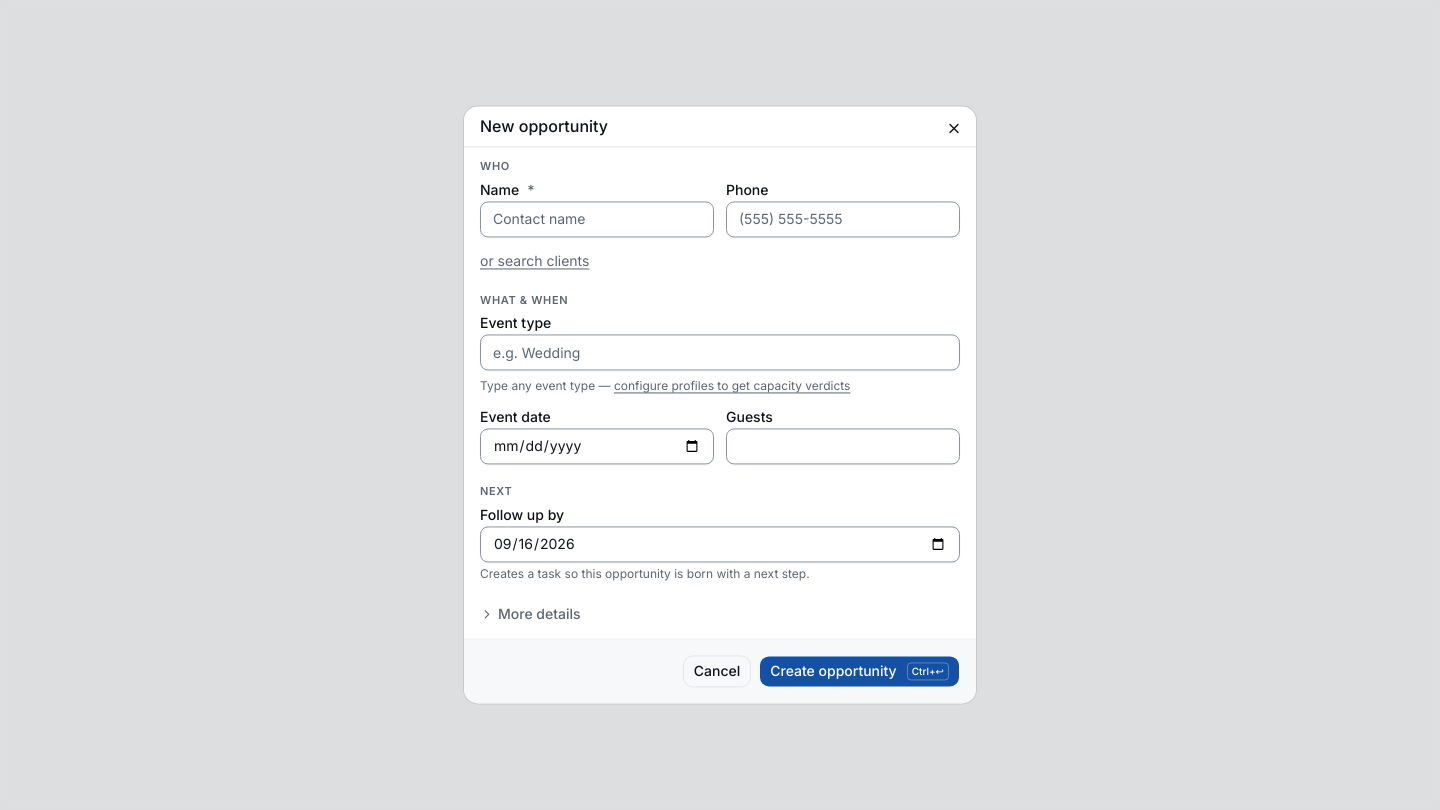
Test: NewOpportunityForm linked mode › shows a single identity display when picking a customer via the typeahead
The width and height of the screenshot is (1440, 810).
The picker is the explicit fallback, collapsed to one line until asked for.
Click the button "or search clients" at (535, 261), box 480,249 -> 590,273
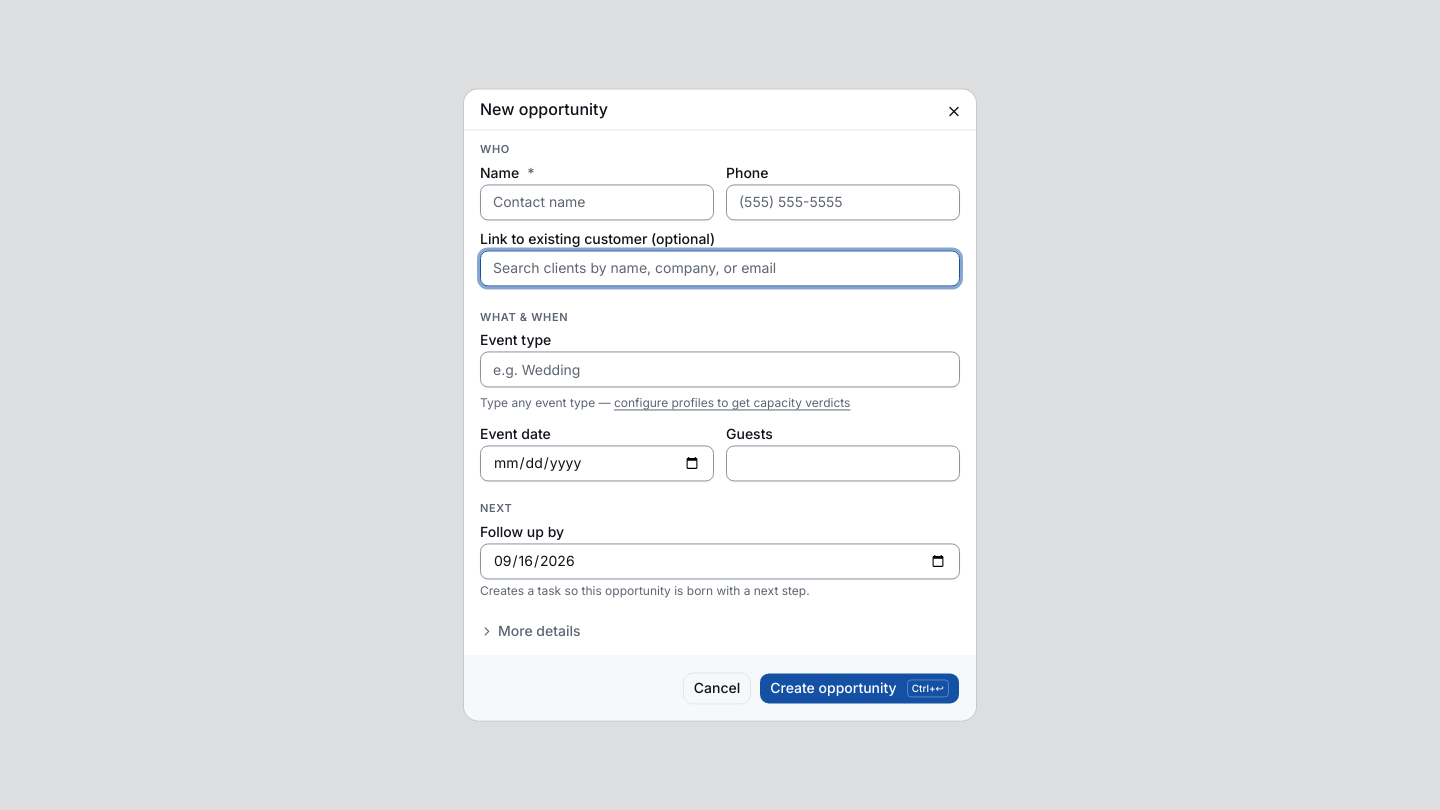
Type "dana" into the dropdown labelled "Link to existing customer (optional)" at (720, 268), box 480,250 -> 960,286
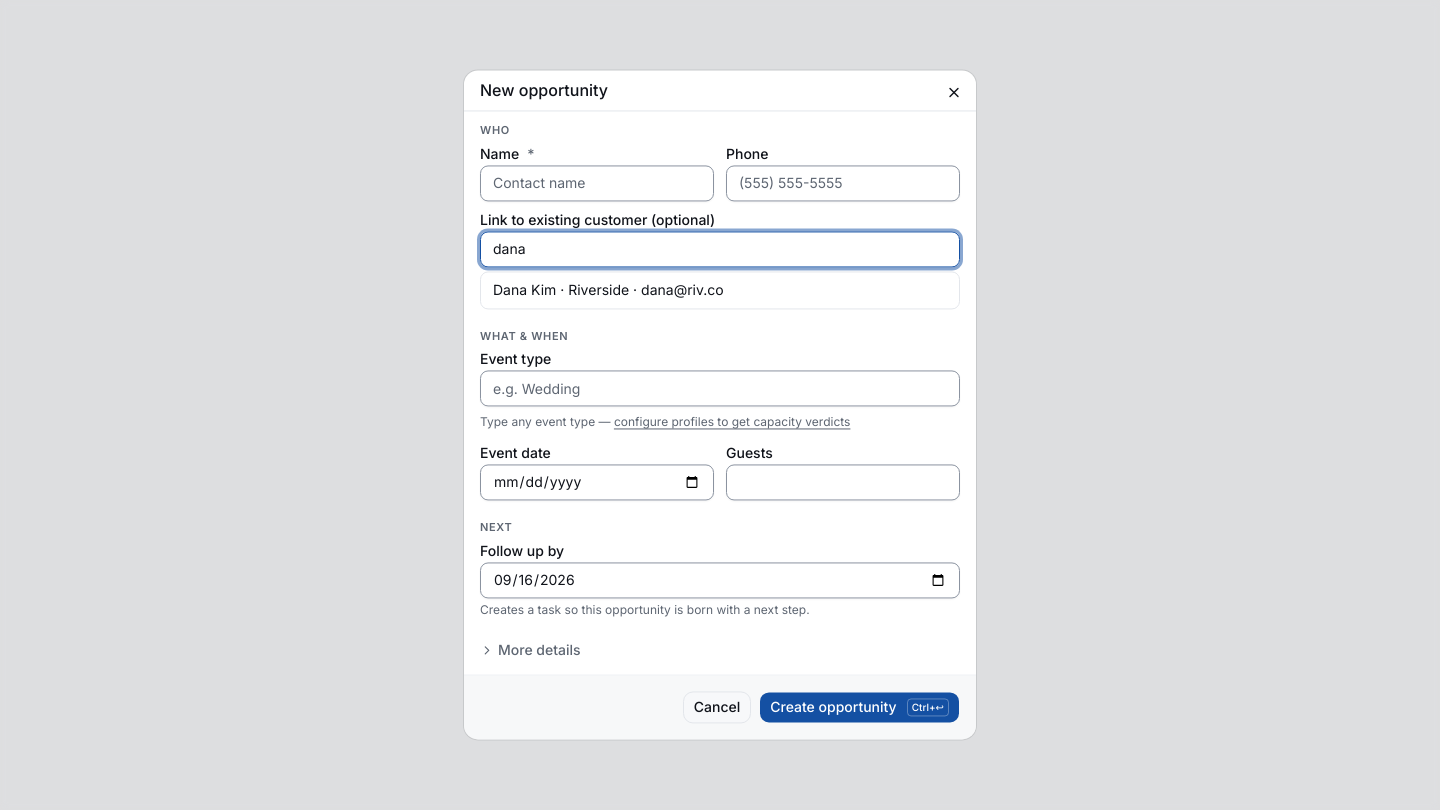
Click the button "Dana Kim · Riverside · dana@riv.co" at (720, 290), box 481,272 -> 959,308
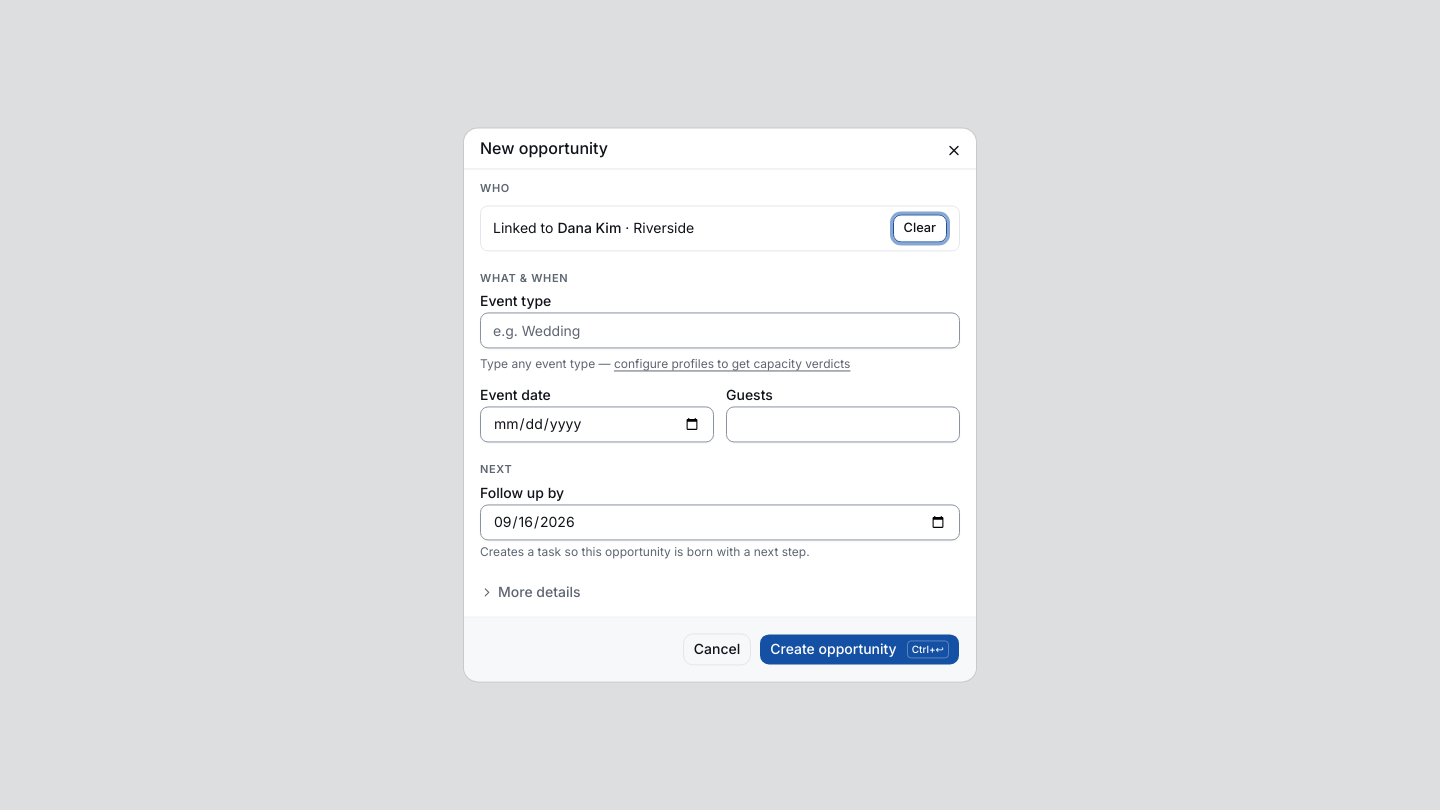
Expected: the text "Dana Kim" is shown, 557,219 -> 621,236
Expected: the text "Linked to Dana Kim · Riverside" is shown, 493,218 -> 694,238
Expected: the button "Clear" is shown, 892,214 -> 947,242
